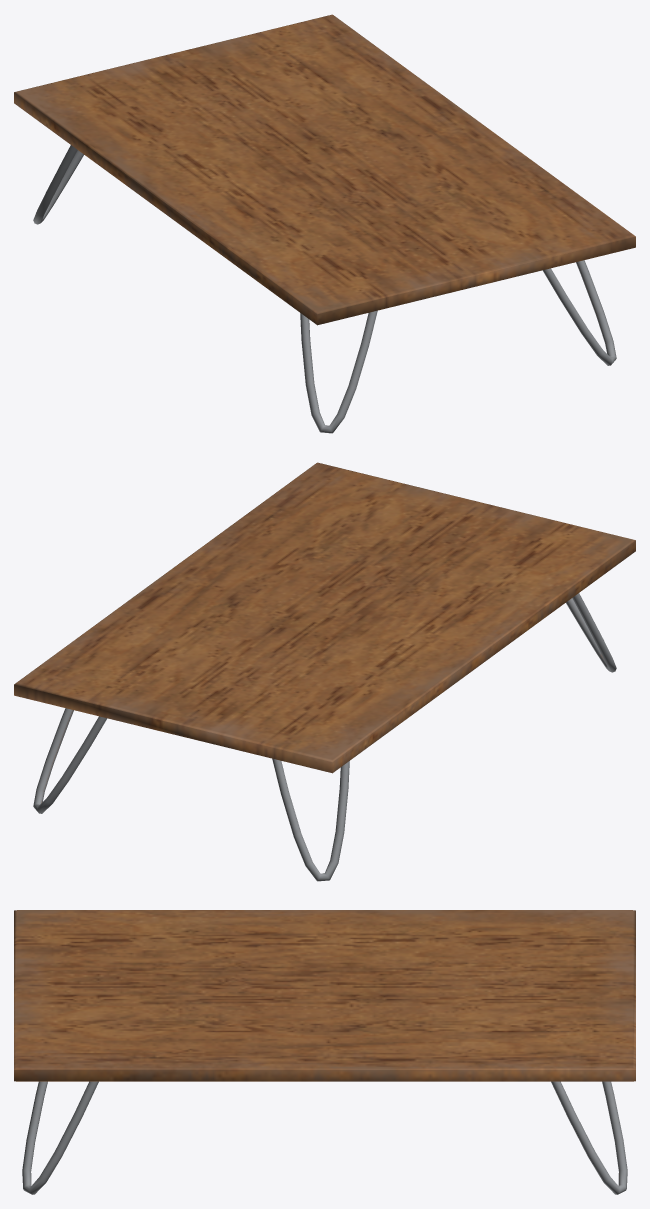
File: table1.fbx
The picture shows the model from 3 angles, top to bottom: view 1: azimuth 30°, elevation 25°; view 2: azimuth 150°, elevation 25°; view 3: azimuth 270°, elevation 25°; orthographic projection. The views are drawn at different scales.
Parts seen in each view (by area): view 1: NurbsPath; view 2: NurbsPath; view 3: NurbsPath.
Boxes of the visible parts, x1=… form: NurbsPath: x1=14, y1=14, x2=635, y2=433; NurbsPath: x1=14, y1=462, x2=635, y2=881; NurbsPath: x1=14, y1=910, x2=635, y2=1194.
Bounding box in the file's own units: 0.6841 × 0.2662 × 1.13.
1 material, 1 textured.
